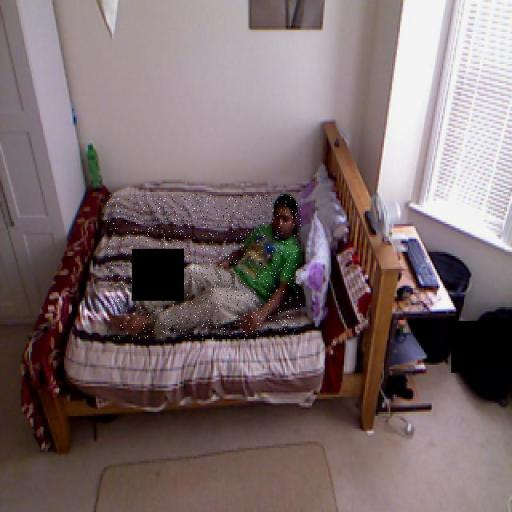Fall: (107, 195, 301, 340)
